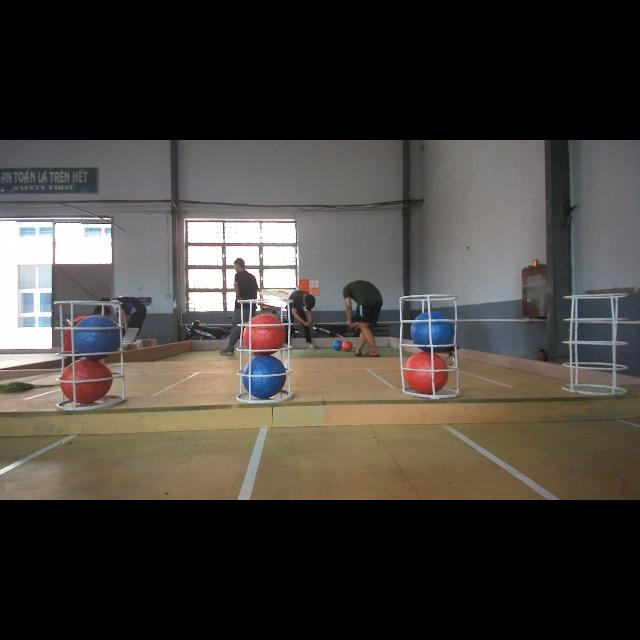B: (72, 315, 121, 359), (242, 354, 286, 398), (410, 311, 454, 353)
R: (60, 358, 114, 404), (240, 313, 288, 355), (404, 352, 448, 392)
